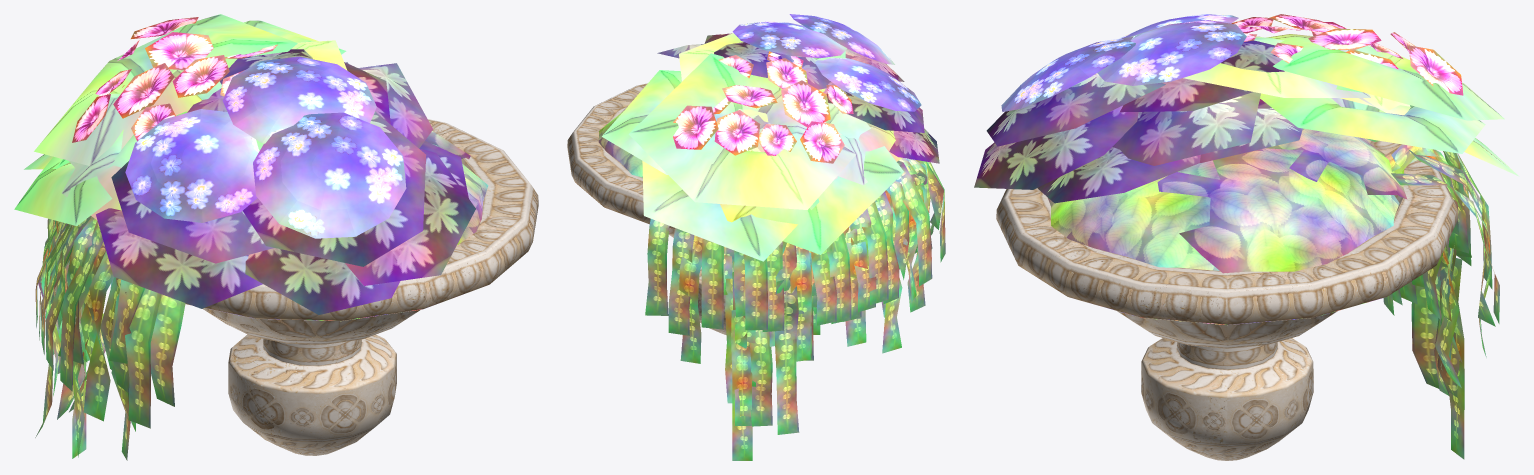
Rendered from smallbowl05_SM.fbx.
3 renders of one model, left to right at view 1: azimuth 30°, elevation 25°; view 2: azimuth 150°, elevation 25°; view 3: azimuth 270°, elevation 25°, orthographic. The views are drawn at different scales.
Visible parts, largest first — view 1: smallbowl05_SM_LOD0; view 2: smallbowl05_SM_LOD0; view 3: smallbowl05_SM_LOD0.
Part boxes in pixels (x1,y1,x2,y2): smallbowl05_SM_LOD0: (14, 14, 538, 460); smallbowl05_SM_LOD0: (567, 14, 945, 460); smallbowl05_SM_LOD0: (974, 14, 1519, 460).
Size of the model in its own units: 175 by 183 by 170.
Materials: 6 (6 with a texture image).
